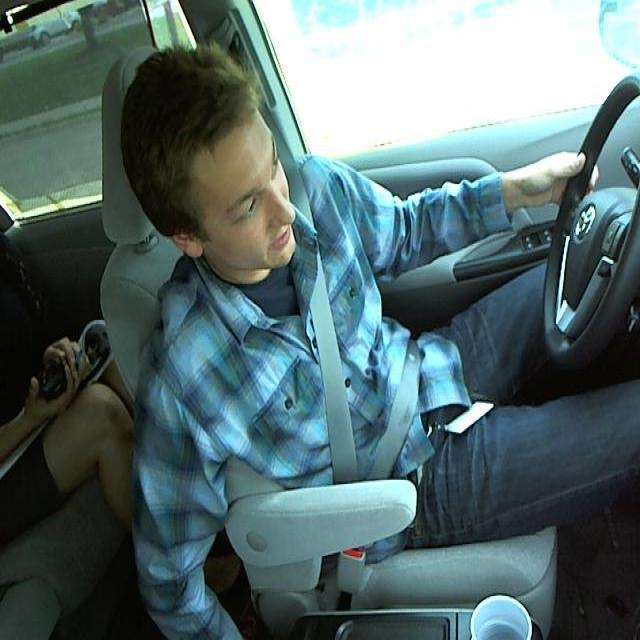seatbelt: (289, 221, 427, 472)
